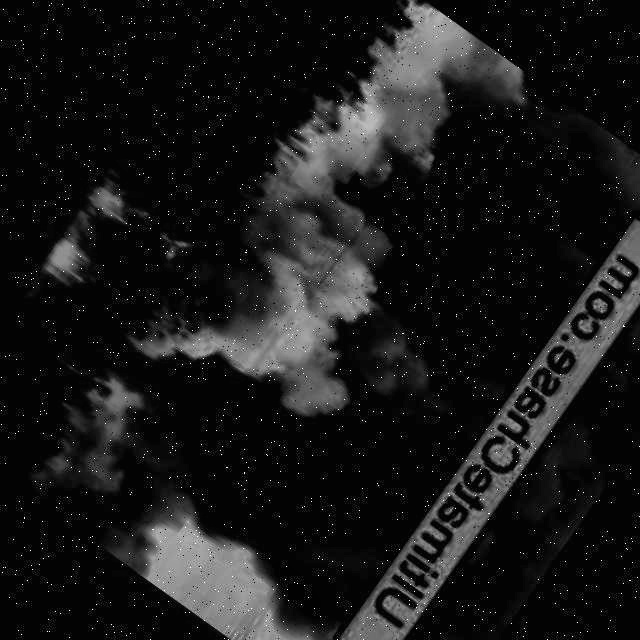Fire: (29, 166, 200, 334), (70, 348, 190, 452)
Smoke: (53, 0, 640, 640), (375, 208, 640, 640)
